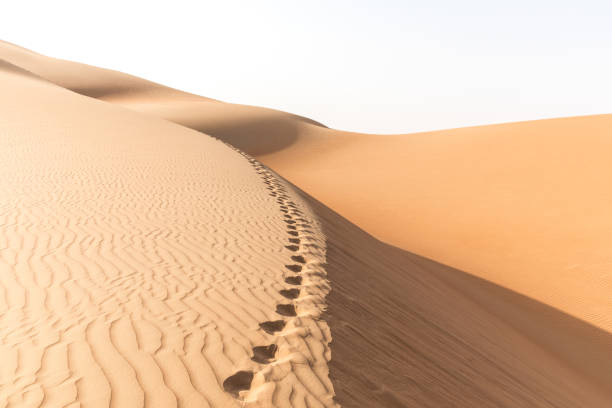animal_foot_print: (222, 370, 253, 396), (252, 344, 277, 363), (259, 320, 285, 334), (276, 304, 296, 316), (279, 288, 300, 299), (285, 264, 302, 272), (291, 255, 305, 263), (287, 245, 298, 250), (288, 230, 298, 234), (284, 219, 294, 223), (284, 219, 294, 222)
